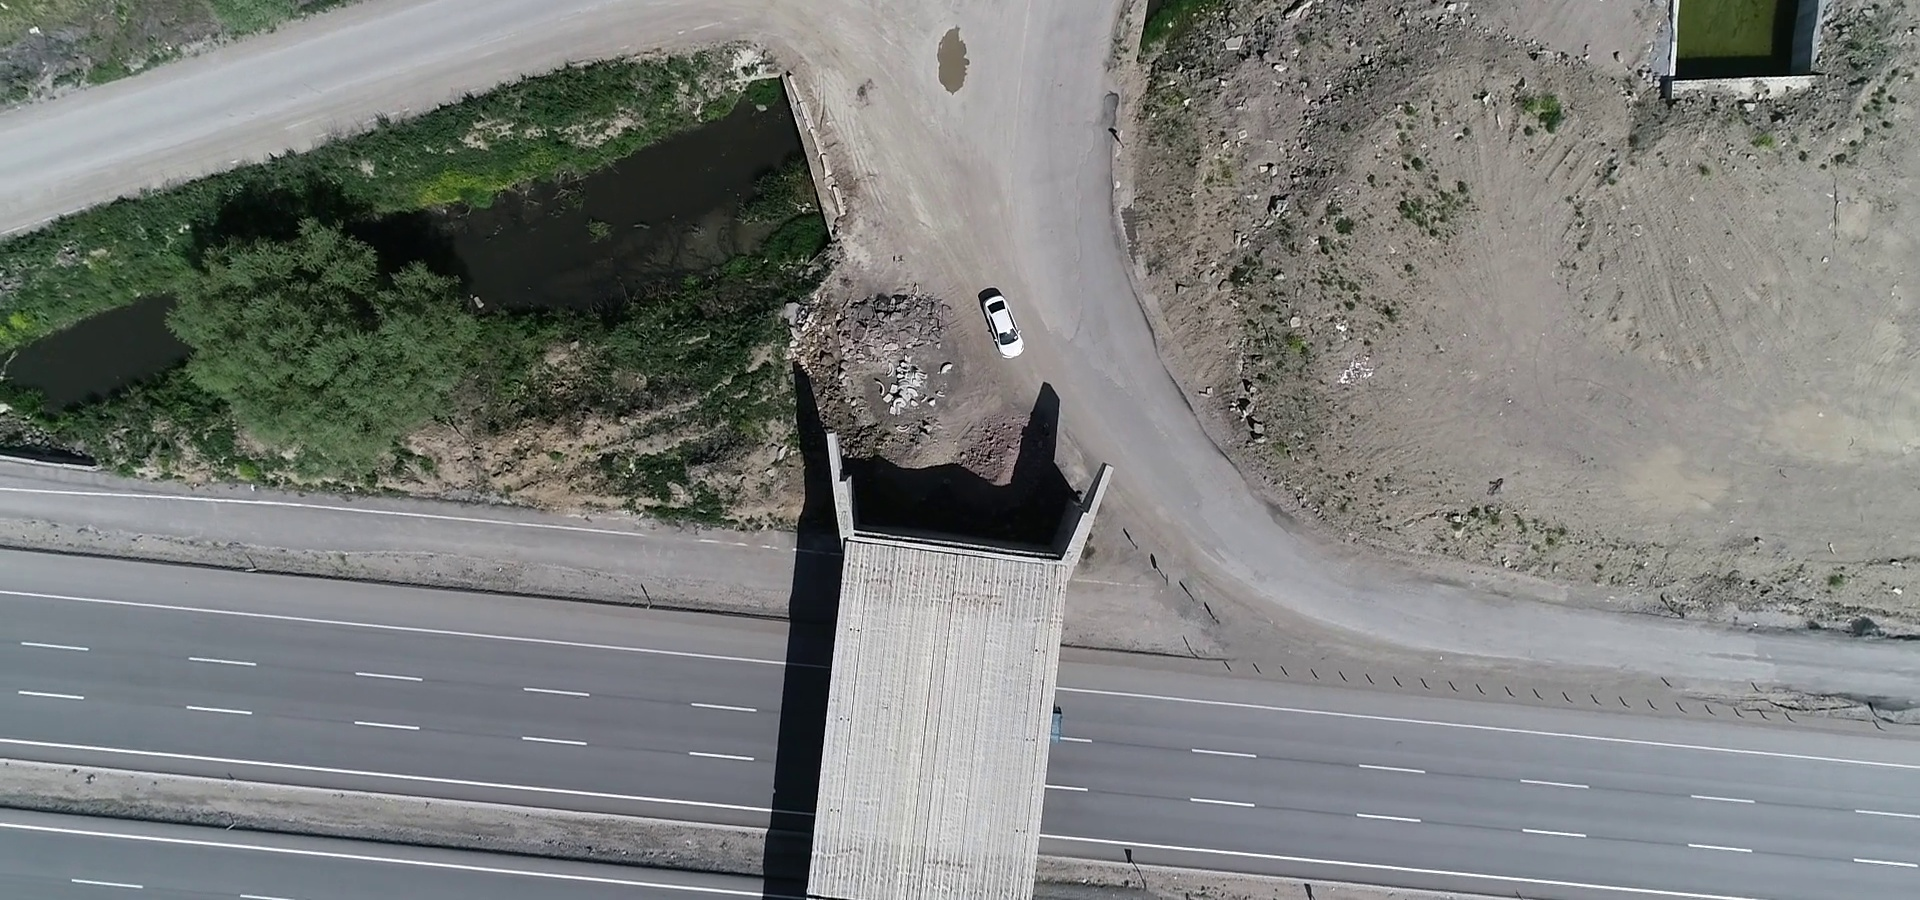araba: (966, 279, 1032, 362)
